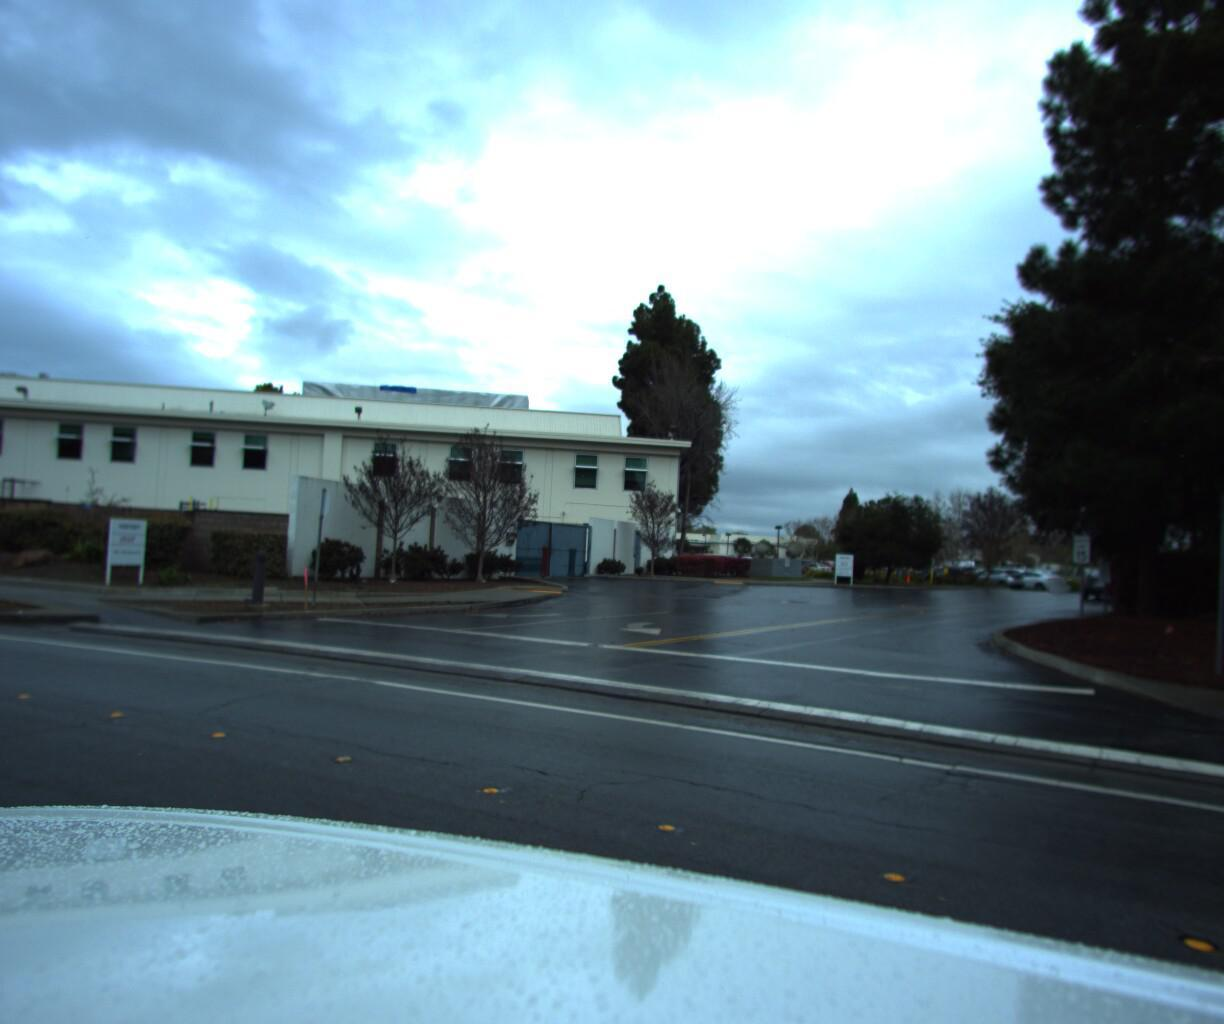car: (1076, 557, 1139, 596)
